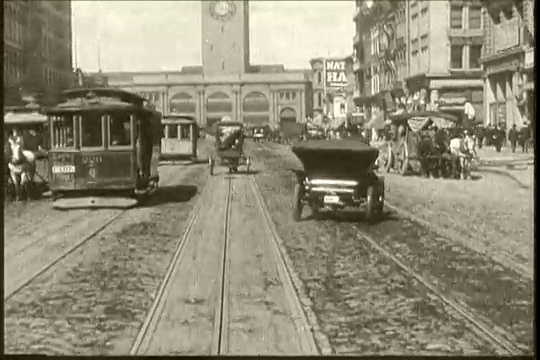car: (285, 128, 393, 224)
carriage: (364, 105, 469, 187), (197, 120, 257, 175)
trolley: (44, 85, 163, 212), (152, 117, 200, 165)
